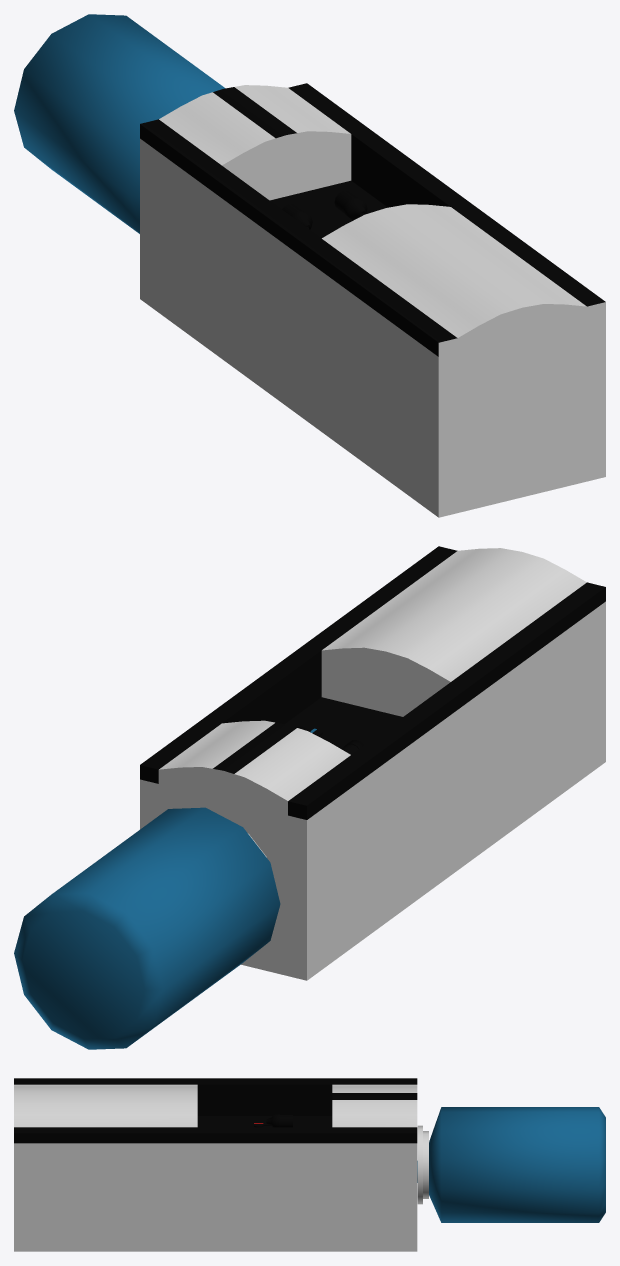
The picture shows the model from 3 angles, top to bottom: view 1: azimuth 30°, elevation 25°; view 2: azimuth 150°, elevation 25°; view 3: azimuth 270°, elevation 25°; orthographic projection. The views are drawn at different scales.
Parts seen in each view (by area): view 1: Cube; view 2: Cube; view 3: Cube.
Boxes of the visible parts, bbox=[...] form: Cube: bbox=[14, 14, 605, 517]; Cube: bbox=[14, 546, 605, 1049]; Cube: bbox=[14, 1078, 605, 1251].
Bounding box in the file's own units: 31 × 33.61 × 141.
